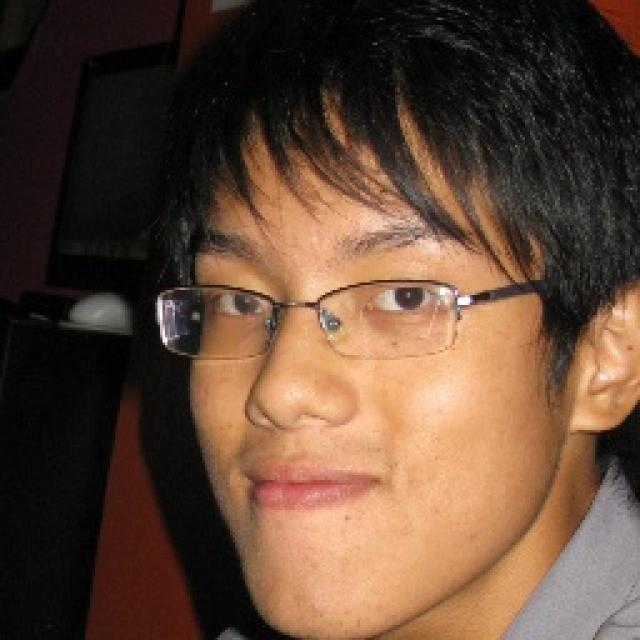earlobe: (569, 388, 611, 435)
eye: (367, 280, 451, 318), (208, 285, 270, 327)
wholeear: (570, 270, 640, 432)
